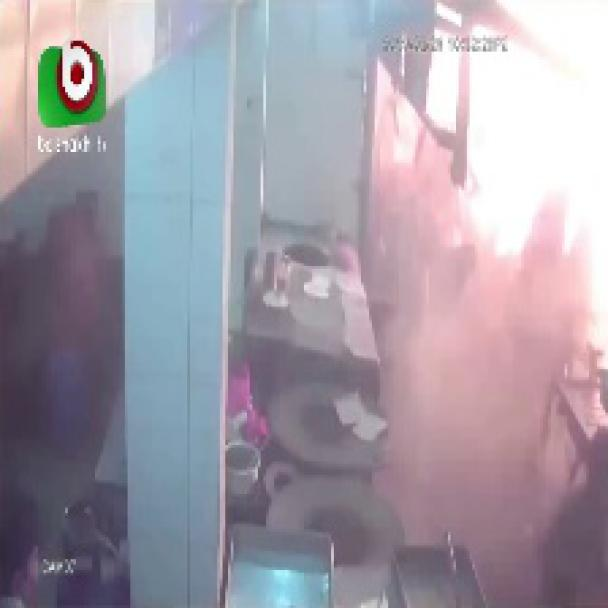smoke: (304, 24, 605, 581)
